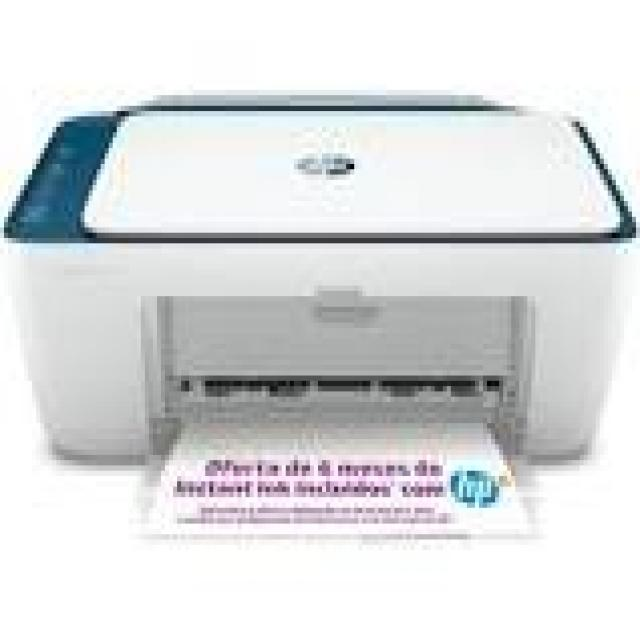printer: (0, 70, 640, 546)
